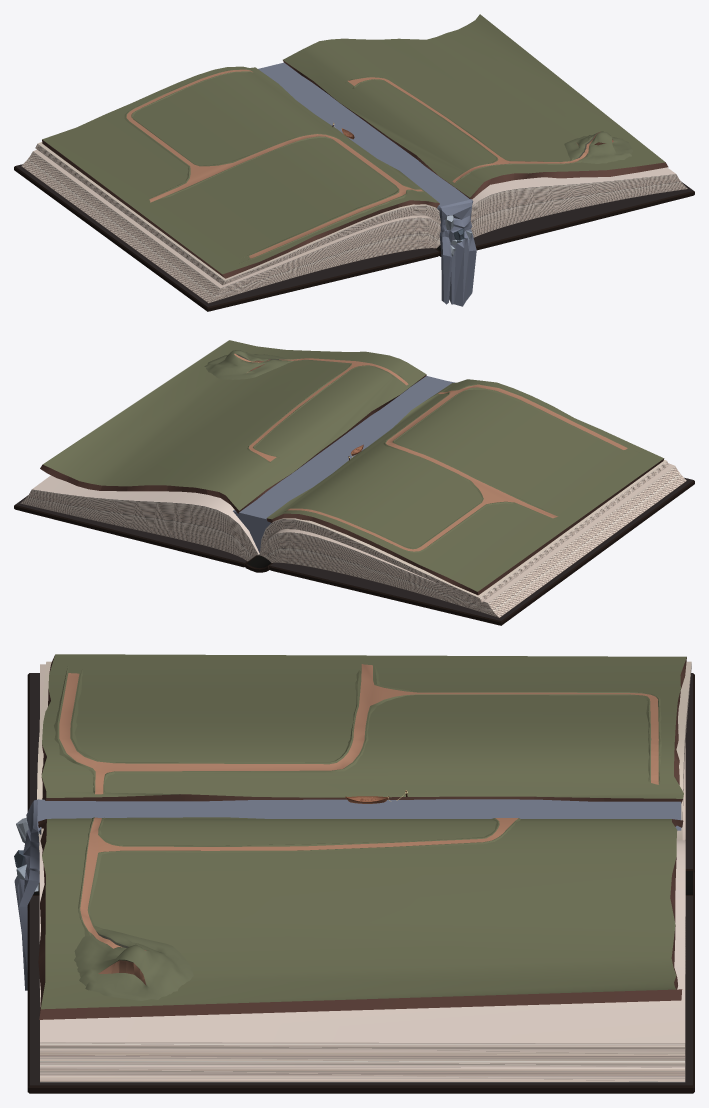
Rendered from Book.fbx.
The picture shows the model from 3 angles, top to bottom: view 1: azimuth 30°, elevation 25°; view 2: azimuth 150°, elevation 25°; view 3: azimuth 270°, elevation 25°; orthographic projection. The views are drawn at different scales.
Parts seen in each view (by area): view 1: Scene, Waterfall; view 2: Scene, Waterfall; view 3: Scene, Waterfall.
Part boxes in pixels (x1,y1,x2,y2): Scene: (14, 14, 694, 311); Waterfall: (258, 62, 476, 306); Scene: (14, 340, 694, 625); Waterfall: (233, 376, 454, 552); Scene: (14, 654, 694, 1093); Waterfall: (14, 799, 681, 990).
Bounding box in the file's own units: 10307 × 2342 × 7232.
